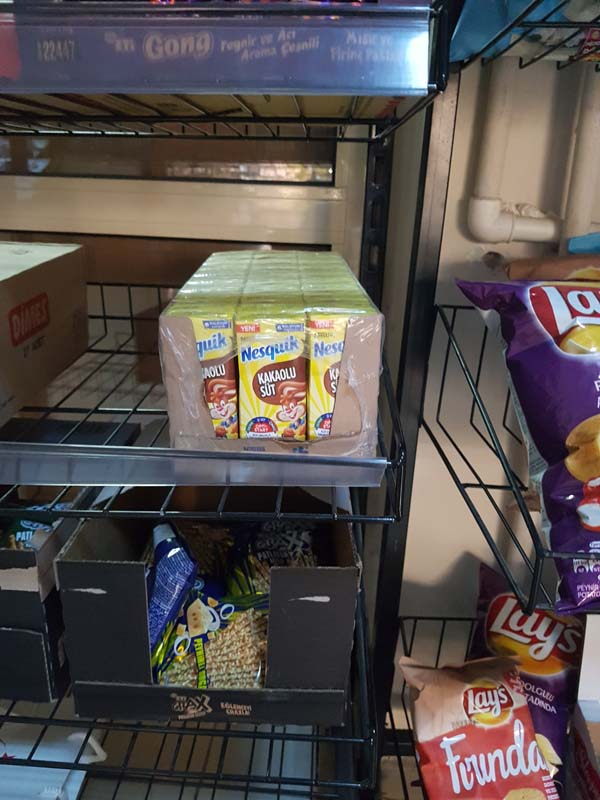laysfirindan: (399, 652, 558, 800)
nesquick200ml: (237, 309, 314, 450), (166, 298, 237, 444), (314, 308, 382, 441)
